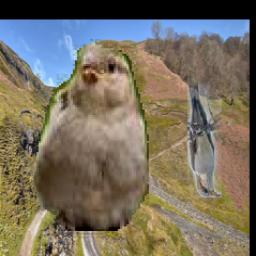Cuckoo: (187, 62, 222, 198)
Sparrow: (33, 40, 149, 249)
